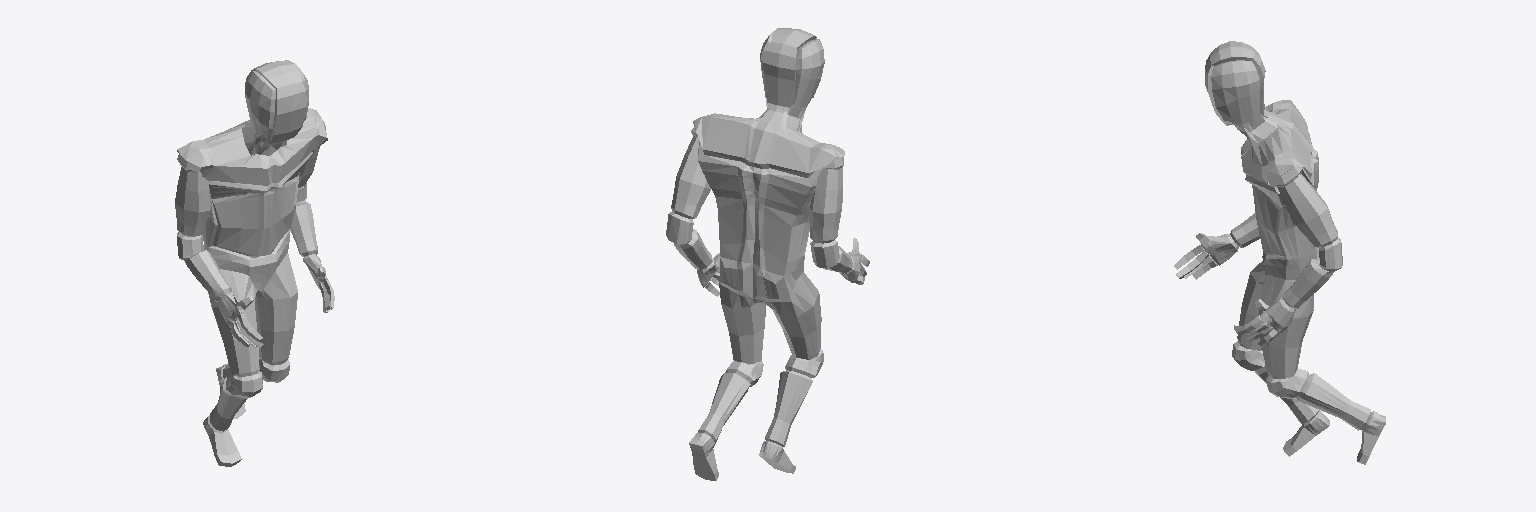
The model's file is GDW_Pyroboy15.obj.
3 views of the same model, side by side, from view 1: azimuth 30°, elevation 25°; view 2: azimuth 150°, elevation 25°; view 3: azimuth 270°, elevation 25° (orthographic).
Parts seen in each view (by area): view 1: GDW_Pyroboy15; view 2: GDW_Pyroboy15; view 3: GDW_Pyroboy15.
Part boxes in pixels (left/top/right/bottom): GDW_Pyroboy15: left=175, top=60, right=334, bottom=466; GDW_Pyroboy15: left=666, top=28, right=869, bottom=480; GDW_Pyroboy15: left=1174, top=41, right=1385, bottom=464.
Size of the model in its own units: 3.78 by 10.07 by 4.66.